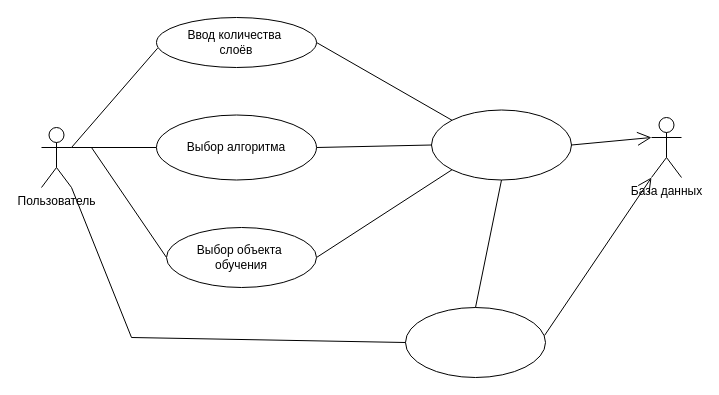
This 719x395 diagram has some shape labels left out. Here are the shapes that lost their labels. From the top down, the centre of each, then its label:
pixel 501 144: Обучение нейронной сети
pixel 475 342: Отчет (Матрица+статистика)
